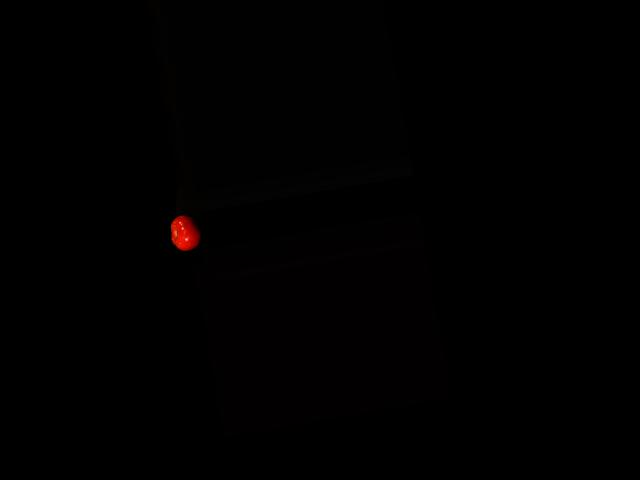tomato: (168, 213, 203, 253)
